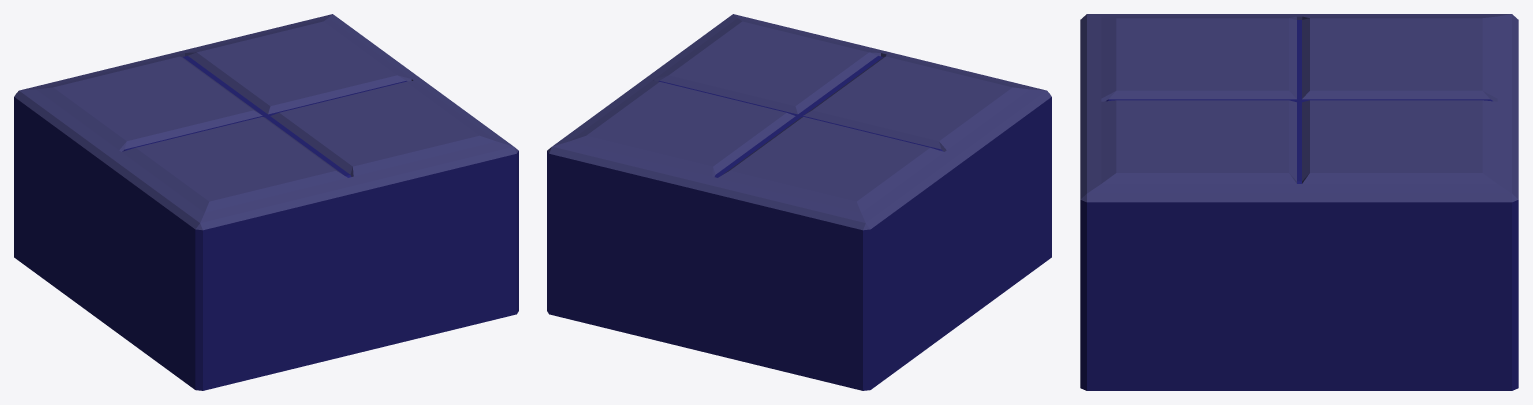
The model's file is Tile-Space-3.fbx.
3 views of the same model, side by side, from view 1: azimuth 30°, elevation 25°; view 2: azimuth 150°, elevation 25°; view 3: azimuth 270°, elevation 25° (orthographic). The views are drawn at different scales.
Parts seen in each view (by area): view 1: Tile03; view 2: Tile03; view 3: Tile03.
Part boxes in pixels (x1,y1,x2,y2): Tile03: (14, 14, 518, 390); Tile03: (547, 14, 1051, 390); Tile03: (1080, 14, 1518, 390).
Bounding box in the file's own units: 192 × 97.86 × 192.
